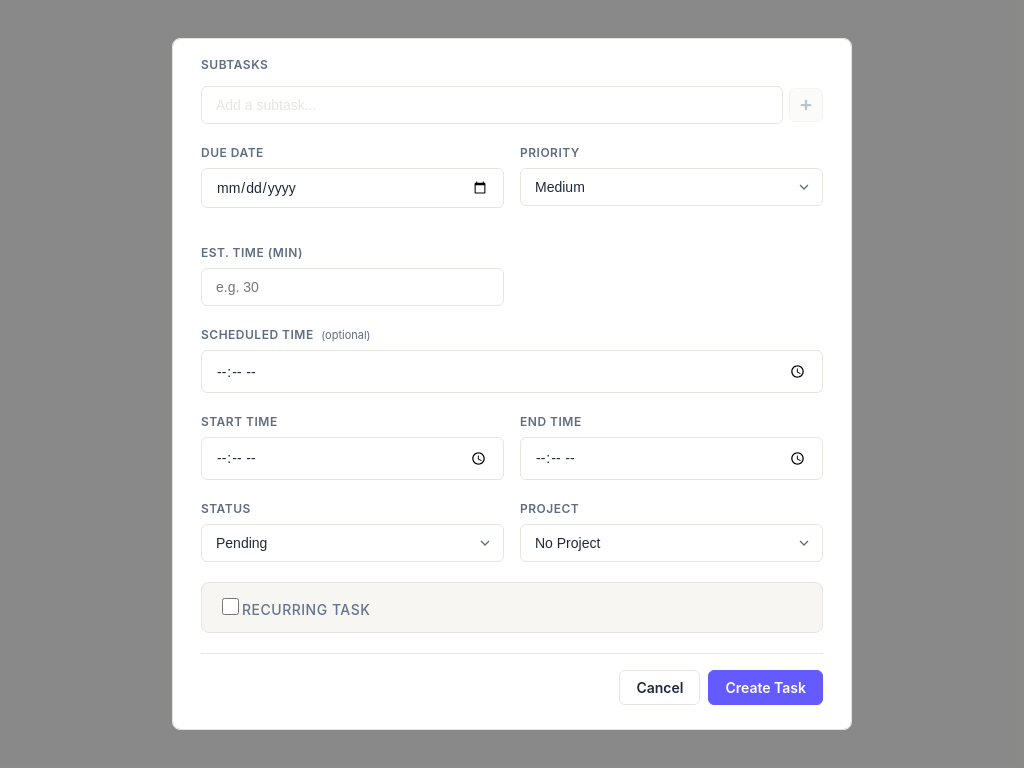
TaskModal Component › should show recurrence options when recurring is checked
The image size is (1024, 768).
(page scrolled)
Click the checkbox labelled "Recurring Task". click: coordinates (230, 606)
box: left=222, top=598, right=239, bottom=615
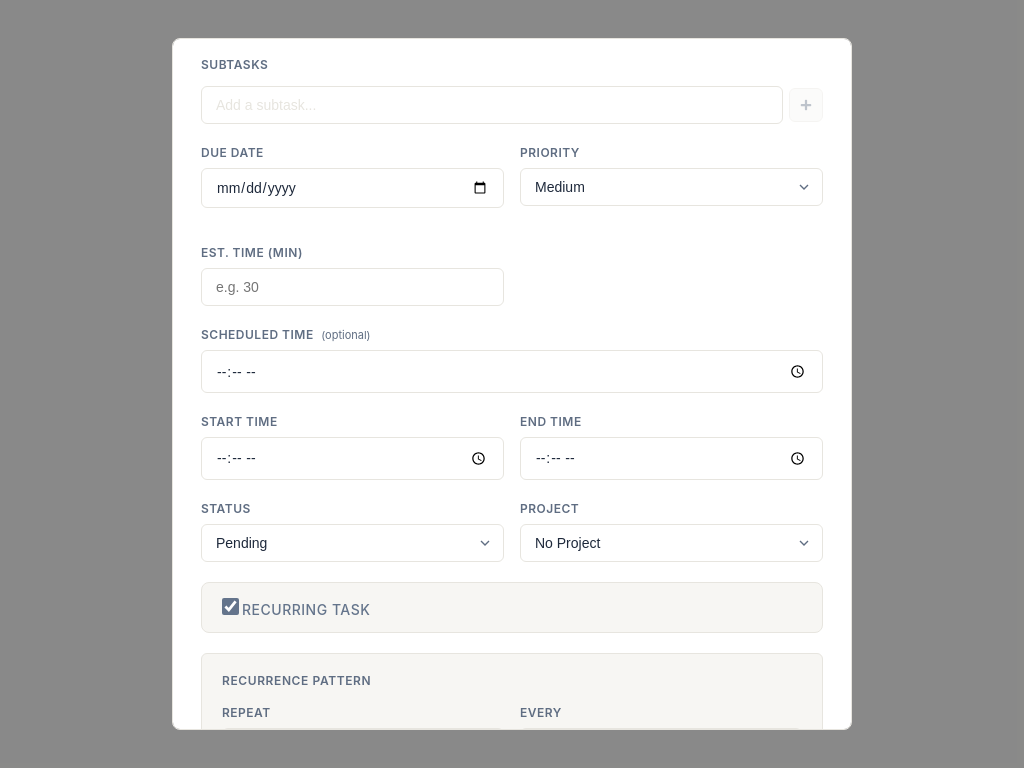
Check: the heading "Recurrence Pattern" is shown, box left=222, top=673, right=371, bottom=688
